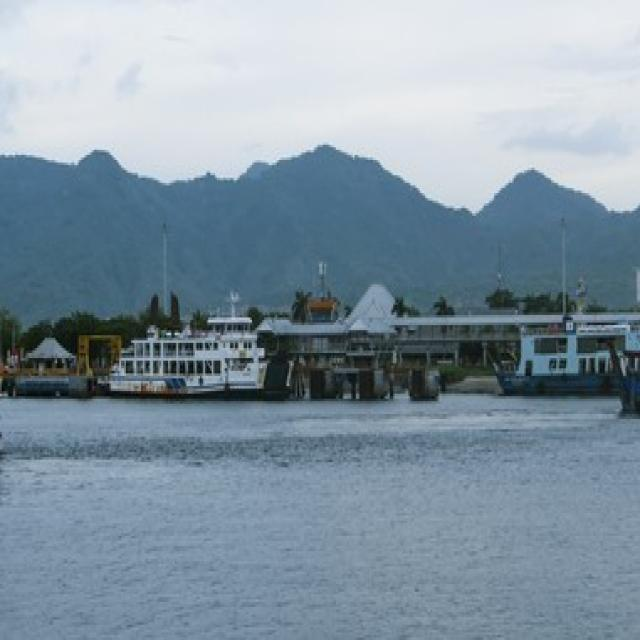passenger ship: (99, 300, 274, 426)
